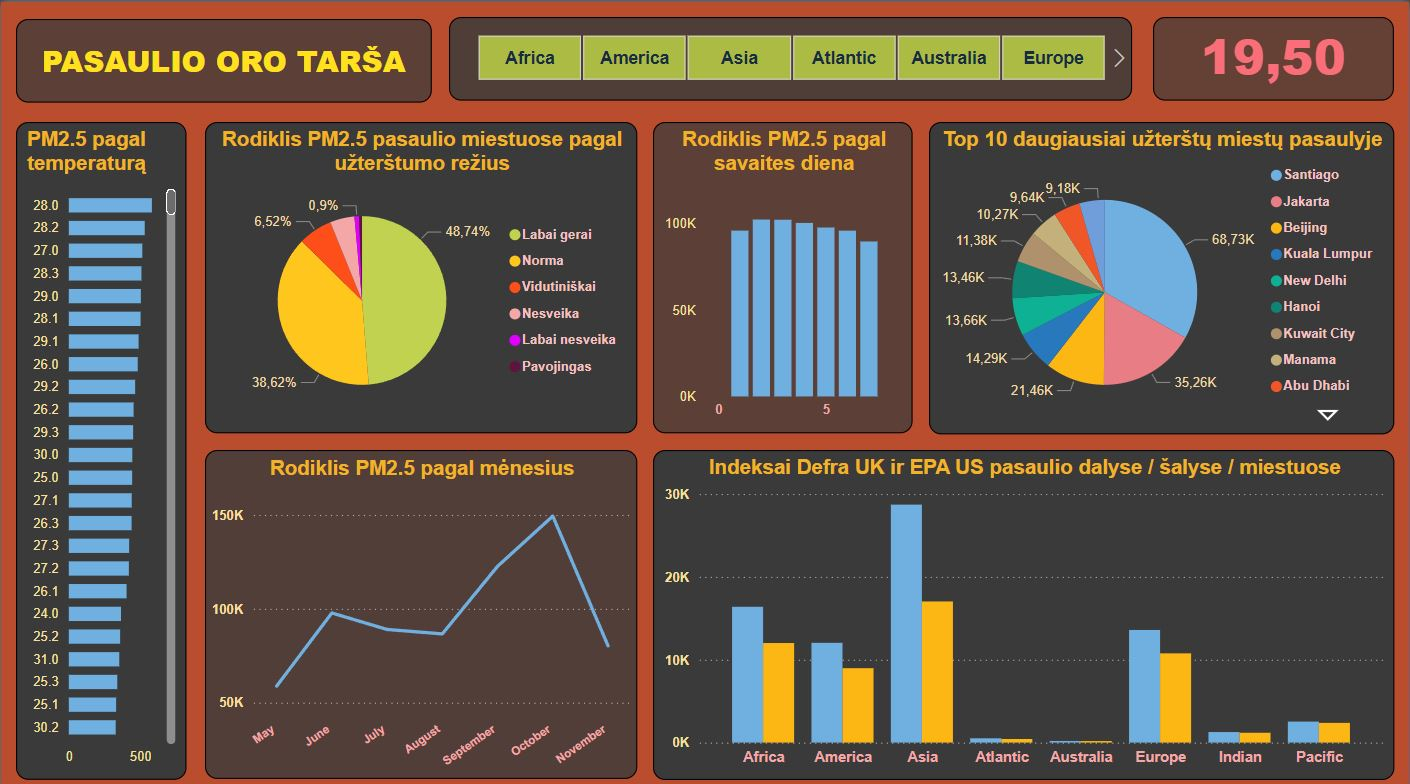

The dashboard page shown, as its layout file describes it:
{"tool":"powerbi","page":{"name":"PM2.5","canvas":[1280,720],"ordinal":0},"visuals":[{"type":"pieChart","title":"Top 10 daugiausiai užterštų miestų pasaulyje","fields":{"Category":["GlobalWeatherRepository.location_name"],"Y":["Sum(GlobalWeatherRepository.air_quality_PM2.5)"]},"box":[843.8,108.8,422.5,283.8],"z":0},{"type":"clusteredBarChart","title":"PM2.5 pagal temperaturą","fields":{"Category":["GlobalWeatherRepository.temperature_celsius"],"Y":["CountNonNull(GlobalWeatherRepository.air_quality_PM2.5)"]},"box":[13.8,108.8,155,597.5],"z":1000},{"type":"slicer","fields":{"Values":["GlobalWeatherRepository.parts_of_world"]},"box":[407.5,13.8,621.2,76.2],"z":3000},{"type":"textbox","box":[13.3,15.6,377.8,74.4],"z":5000},{"type":"card","fields":{"Values":["Vidurk_kiet_dal.Measure"]},"box":[1047.5,13.8,218.8,76.2],"z":6000},{"type":"clusteredColumnChart","title":"Rodiklis PM2.5 pagal savaites diena","fields":{"Category":["GlobalWeatherRepository.Savaites_diena"],"Y":["Sum(GlobalWeatherRepository.air_quality_PM2.5)"]},"box":[592.5,108.8,236.2,282.5],"z":7000},{"type":"pieChart","title":"Rodiklis PM2.5 pasaulio miestuose pagal užterštumo režius","fields":{"Category":["GlobalWeatherRepository.ReziaiPagalPM2.5"],"Y":["CountNonNull(GlobalWeatherRepository.location_name)"]},"box":[185,108.8,392.5,282.5],"z":8000},{"type":"lineChart","title":"Rodiklis PM2.5 pagal mėnesius","fields":{"Category":["GlobalWeatherRepository.last_updated.Variation.Date Hierarchy.Month"],"Y":["Sum(GlobalWeatherRepository.air_quality_PM2.5)"]},"box":[185,407.5,392.5,298.8],"z":9000},{"type":"clusteredColumnChart","title":"Indeksai Defra UK  ir EPA US pasaulio dalyse / šalyse / miestuose","fields":{"Category":["GlobalWeatherRepository.parts_of_world Hierarchy.parts_of_world","GlobalWeatherRepository.parts_of_world Hierarchy.country","GlobalWeatherRepository.parts_of_world Hierarchy.location_name"],"Y":["Sum(GlobalWeatherRepository.air_quality_gb-defra-index)","Sum(GlobalWeatherRepository.air_quality_us-epa-index)"]},"box":[592.5,407.5,673.8,300],"z":10000}]}

Visuals, with their boxes in screenshot pixels (x1, y1, x2, y2), scaled from the page's 1280x720 canvas onto the 1410x784 screenshot:
"Top 10 daugiausiai užterštų miestų pasaulyje" pieChart: region(929, 118, 1395, 427)
"PM2.5 pagal temperaturą" clusteredBarChart: region(15, 118, 186, 769)
slicer - GlobalWeatherRepository.parts_of_world: region(449, 15, 1133, 98)
textbox: region(15, 17, 431, 98)
card - Vidurk_kiet_dal.Measure: region(1154, 15, 1395, 98)
"Rodiklis PM2.5 pagal savaites diena" clusteredColumnChart: region(653, 118, 913, 426)
"Rodiklis PM2.5 pasaulio miestuose pagal užterštumo režius" pieChart: region(204, 118, 636, 426)
"Rodiklis PM2.5 pagal mėnesius" lineChart: region(204, 444, 636, 769)
"Indeksai Defra UK  ir EPA US pasaulio dalyse / šalyse / miestuose" clusteredColumnChart: region(653, 444, 1395, 770)
